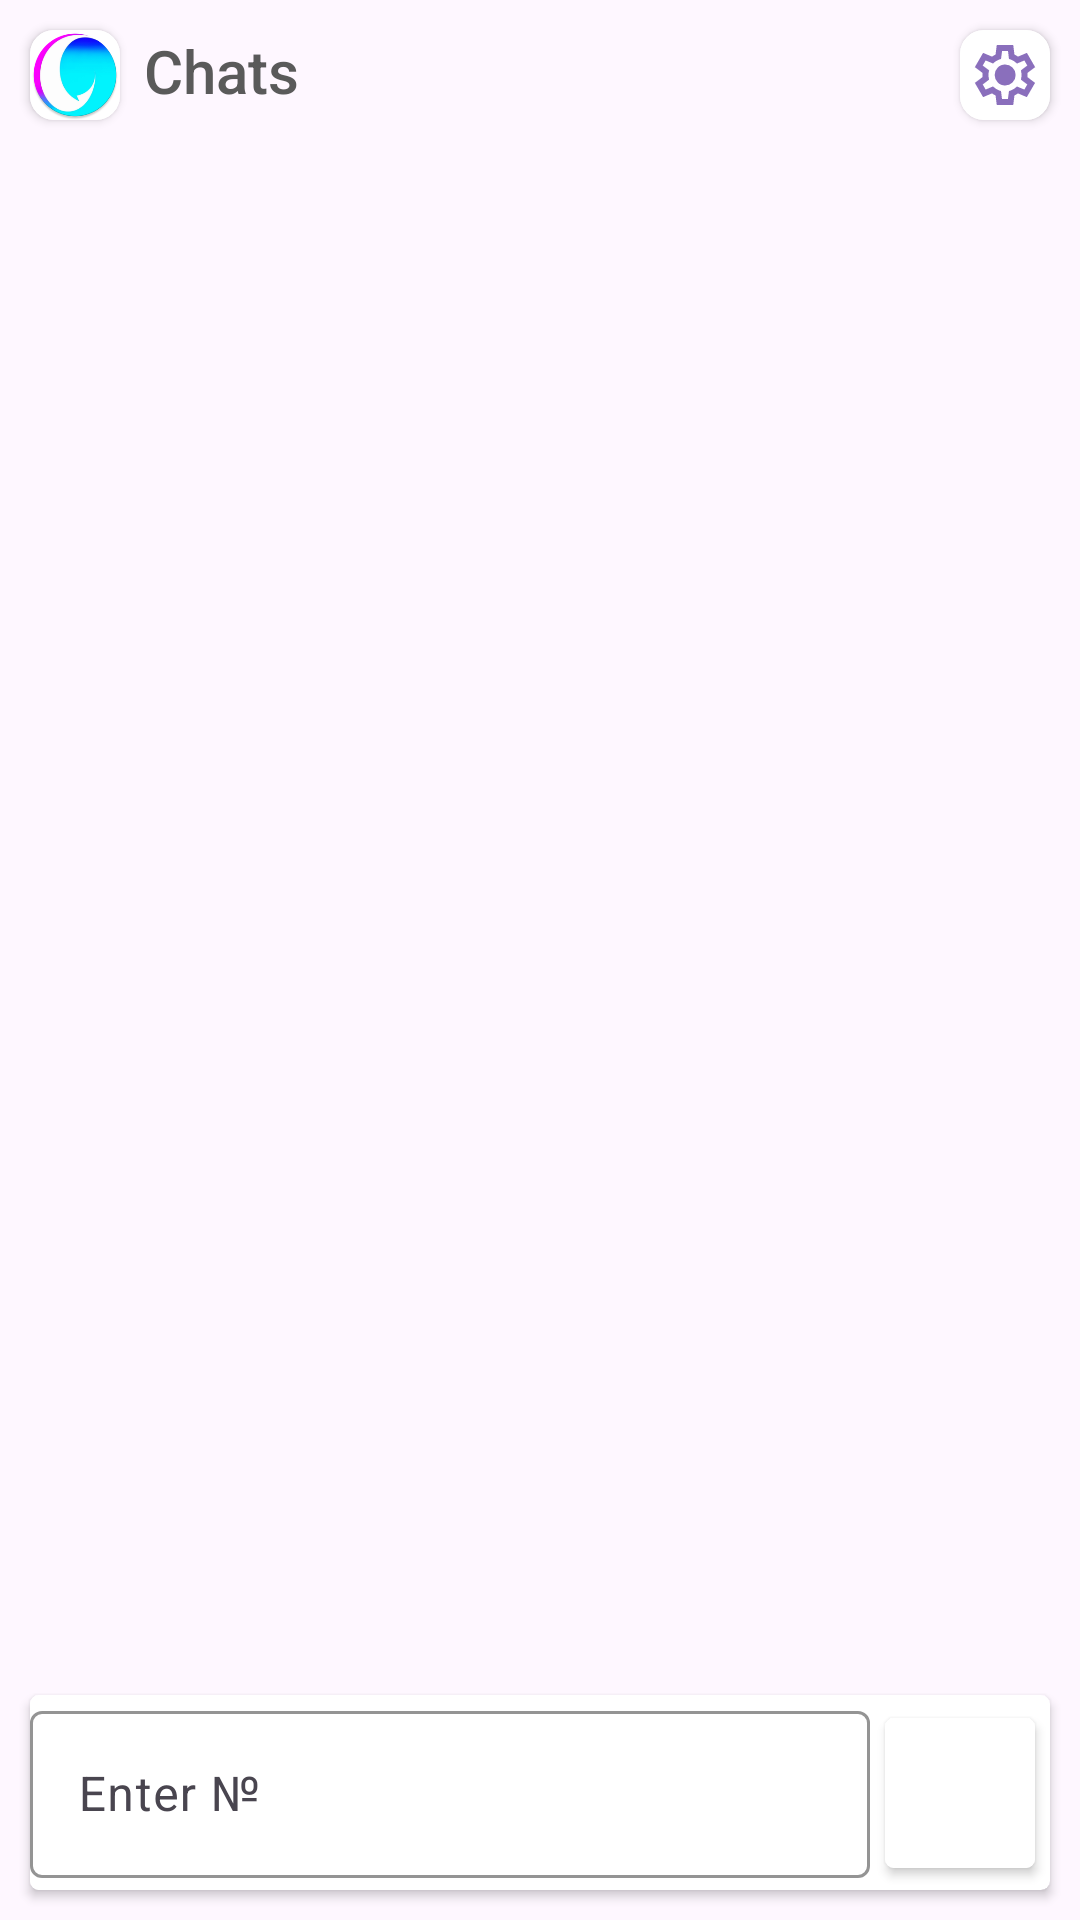

Icons on this 1080px x 1920px Android screen, each with the point to tap as [x,y]:
settings: [1005,75]
